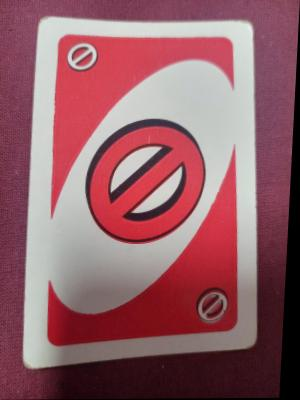skip: (76, 105, 220, 249), (191, 281, 239, 329), (59, 38, 109, 79)
